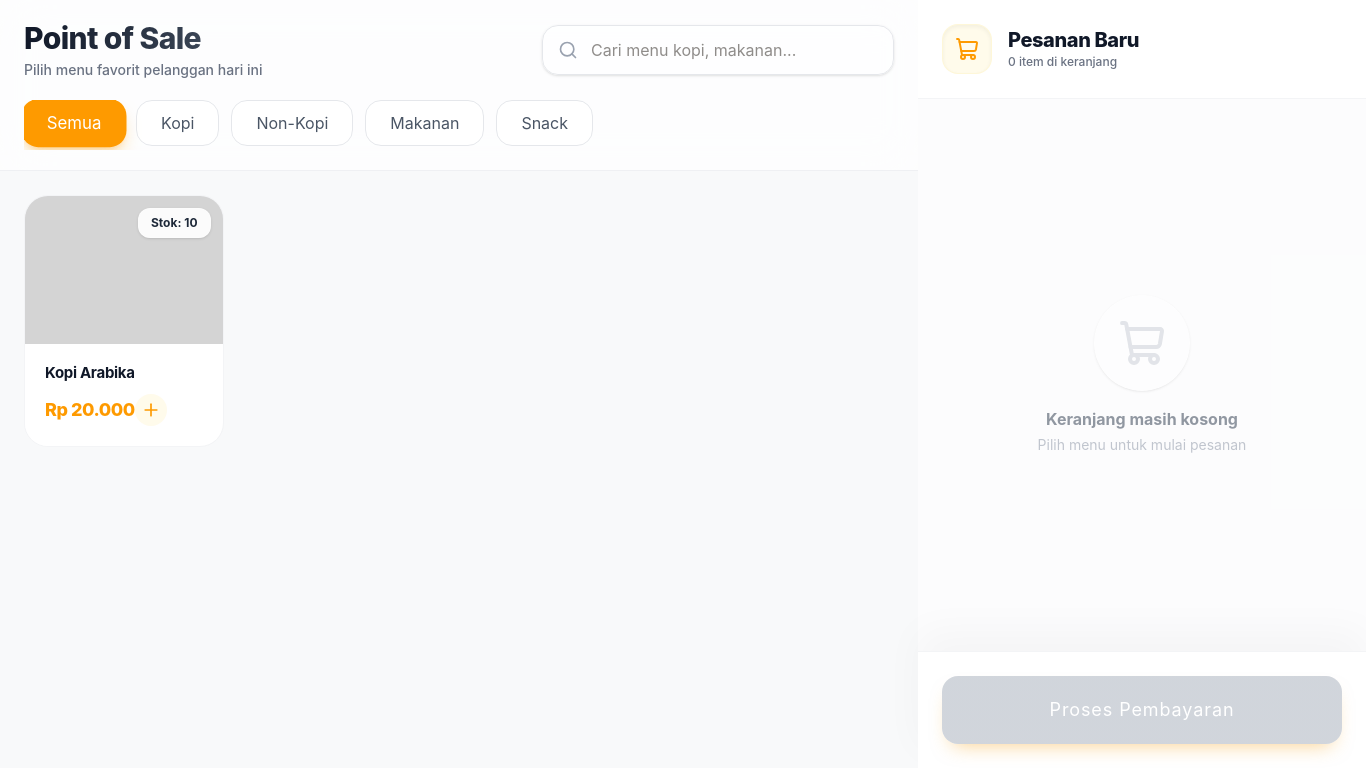
it: kasir can complete a transaction and see success notification
The width and height of the screenshot is (1366, 768).
Click the button "Stok: 10 Kopi Arabika Rp 20.000": (124, 321) [24,195,224,447]
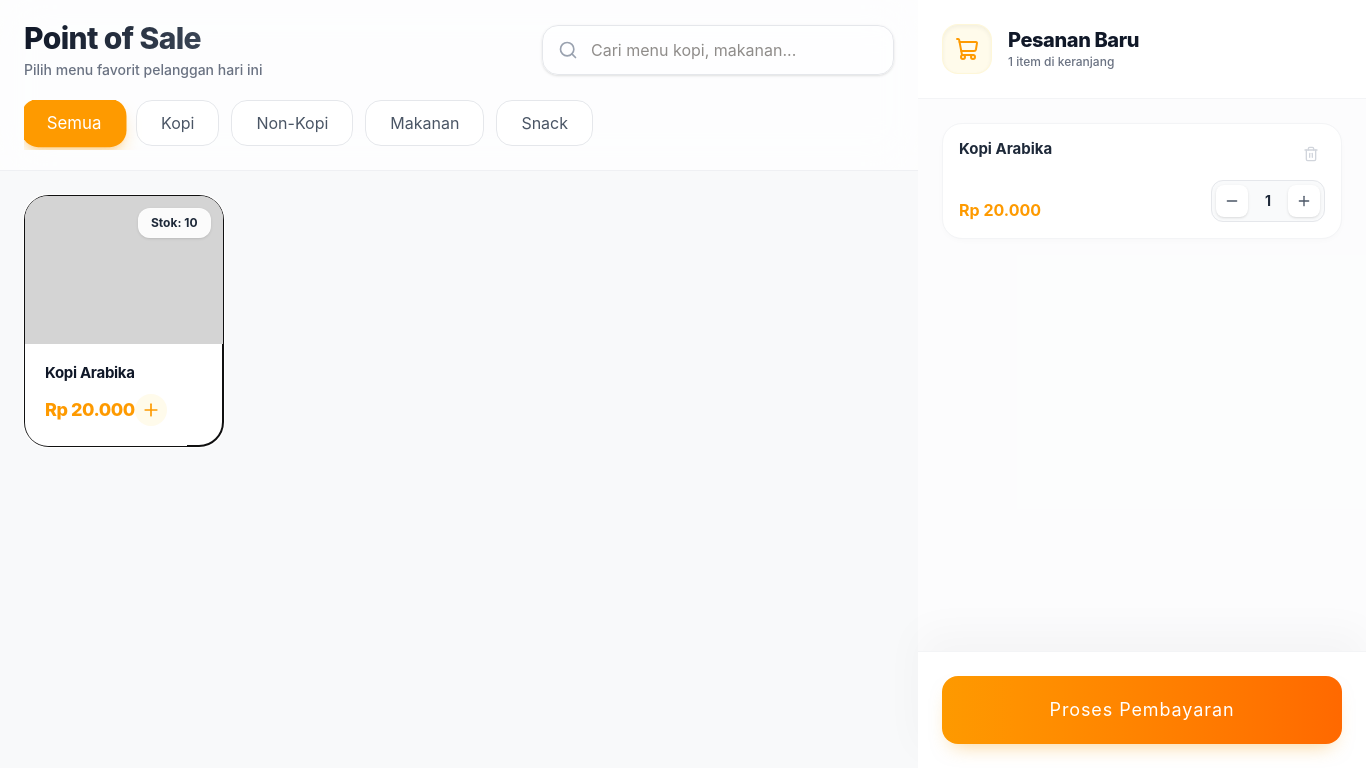
Note: Click the main "Bayar" button to open the payment modal
Click the button "Proses Pembayaran": (1142, 710) [942,676,1342,744]
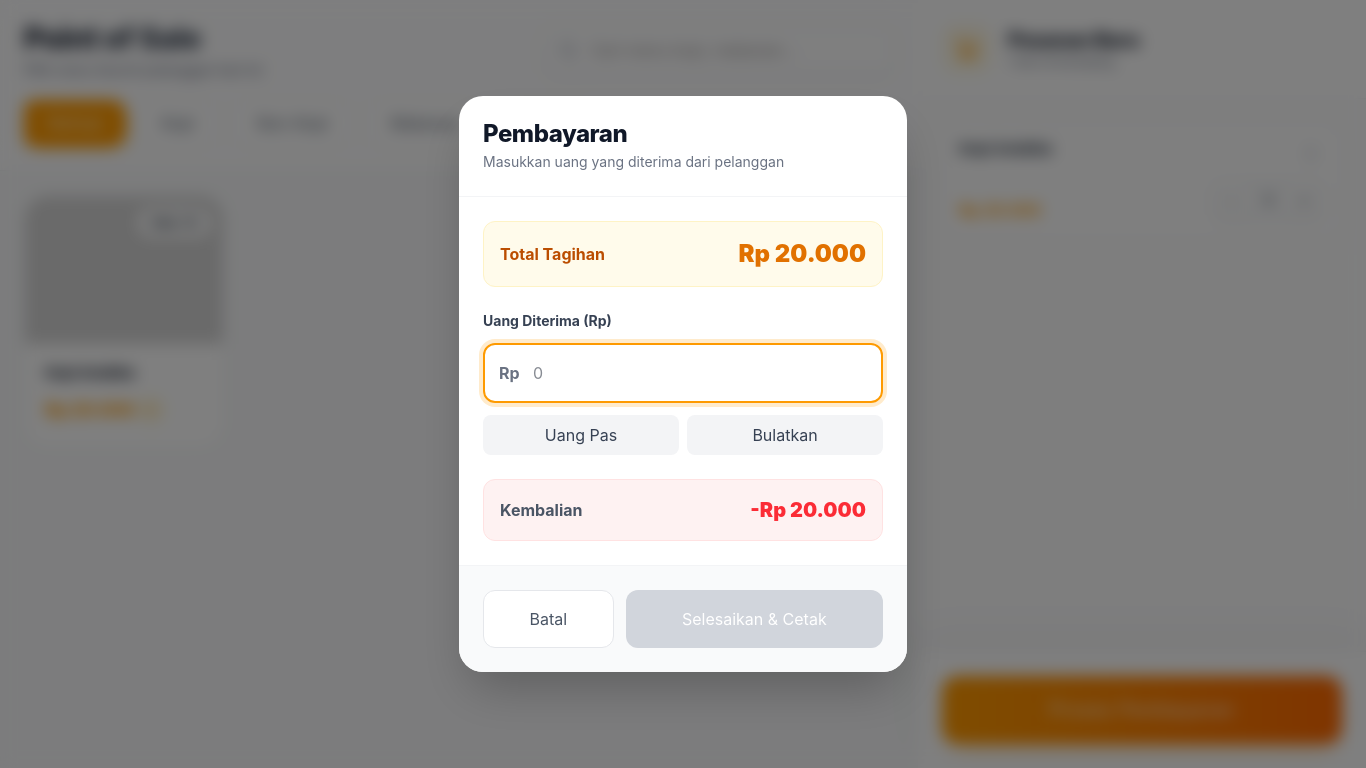
Note: Fill the amount input (make it larger than total)
In the field with placeholder "0": (683, 373) [483,343,883,403], type "50000"
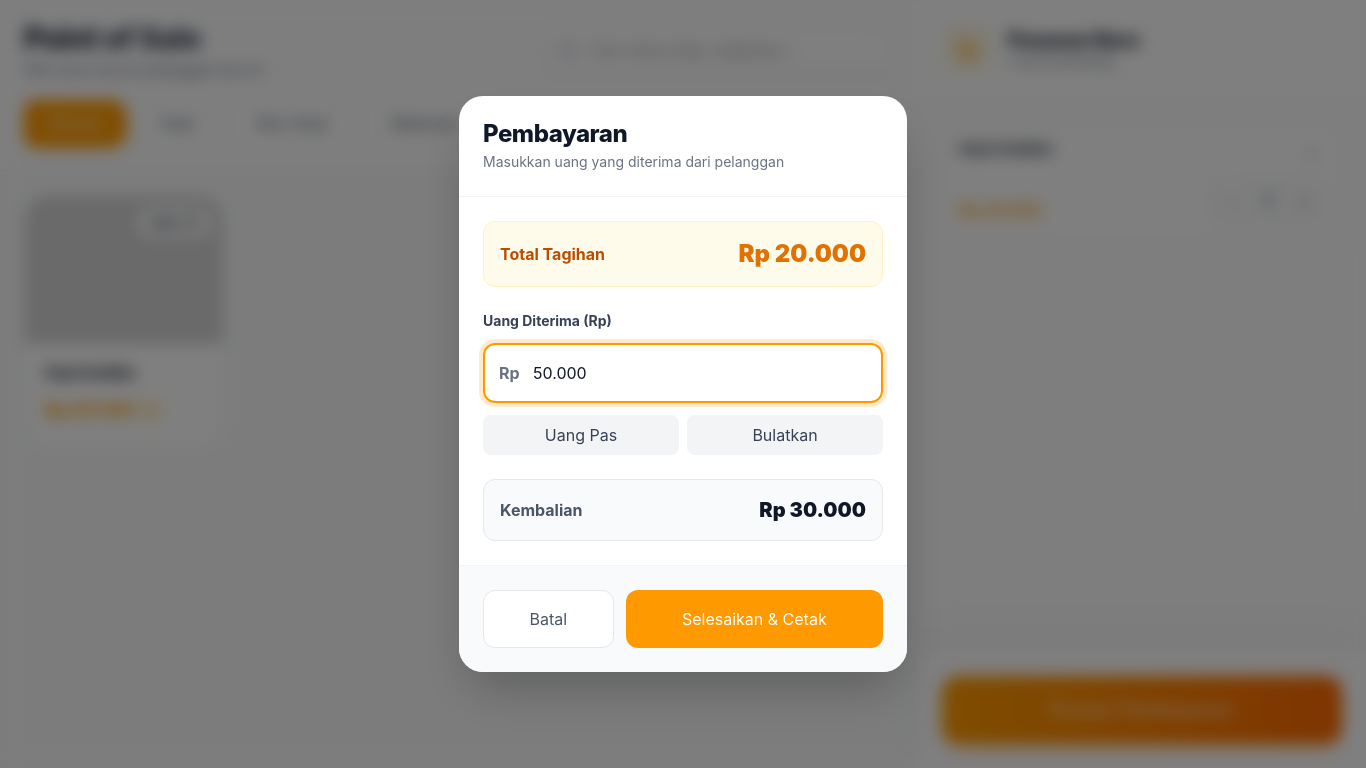
Note: Submit payment
Click the button "Selesaikan & Cetak": (754, 619) [626,590,883,648]
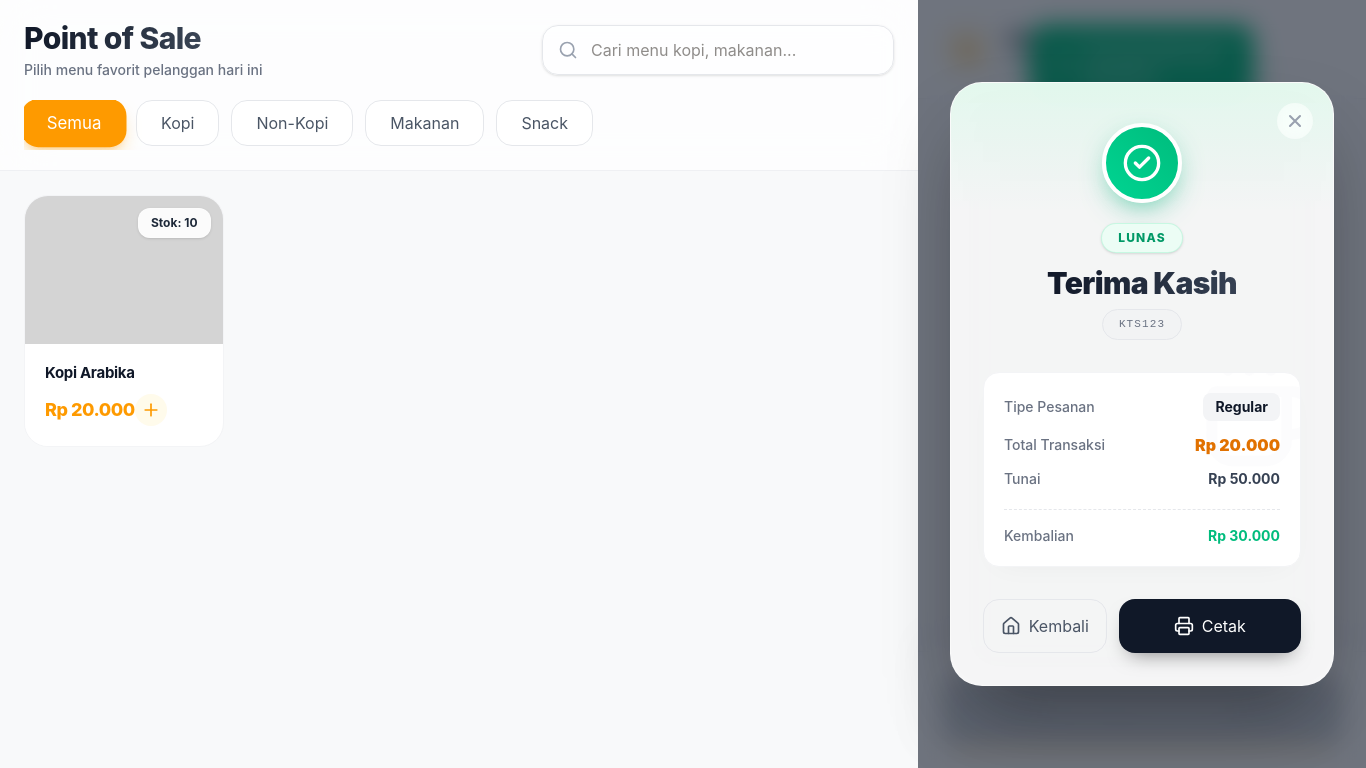
Expected: the text "Transaksi Berhasil Disimpan!" is shown, [1082,40,1230,88]
